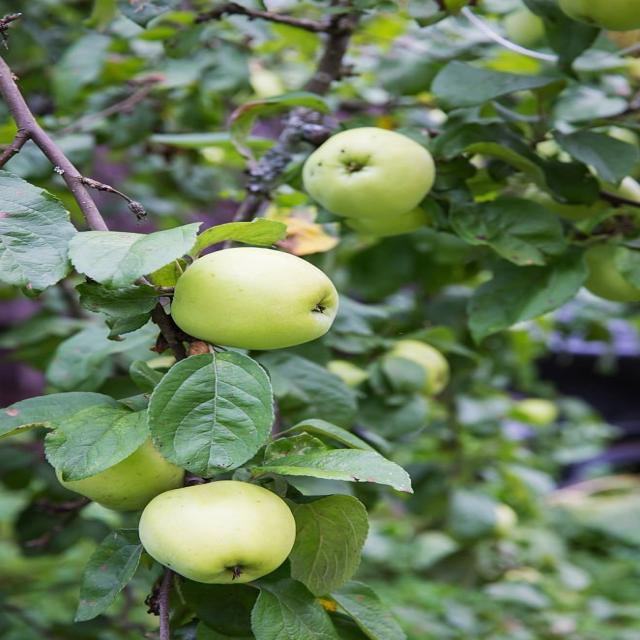Green Apple: (153, 478, 300, 587), (176, 253, 340, 349), (308, 121, 438, 214), (73, 431, 193, 507), (388, 336, 459, 392), (556, 1, 640, 33), (318, 358, 371, 403)
